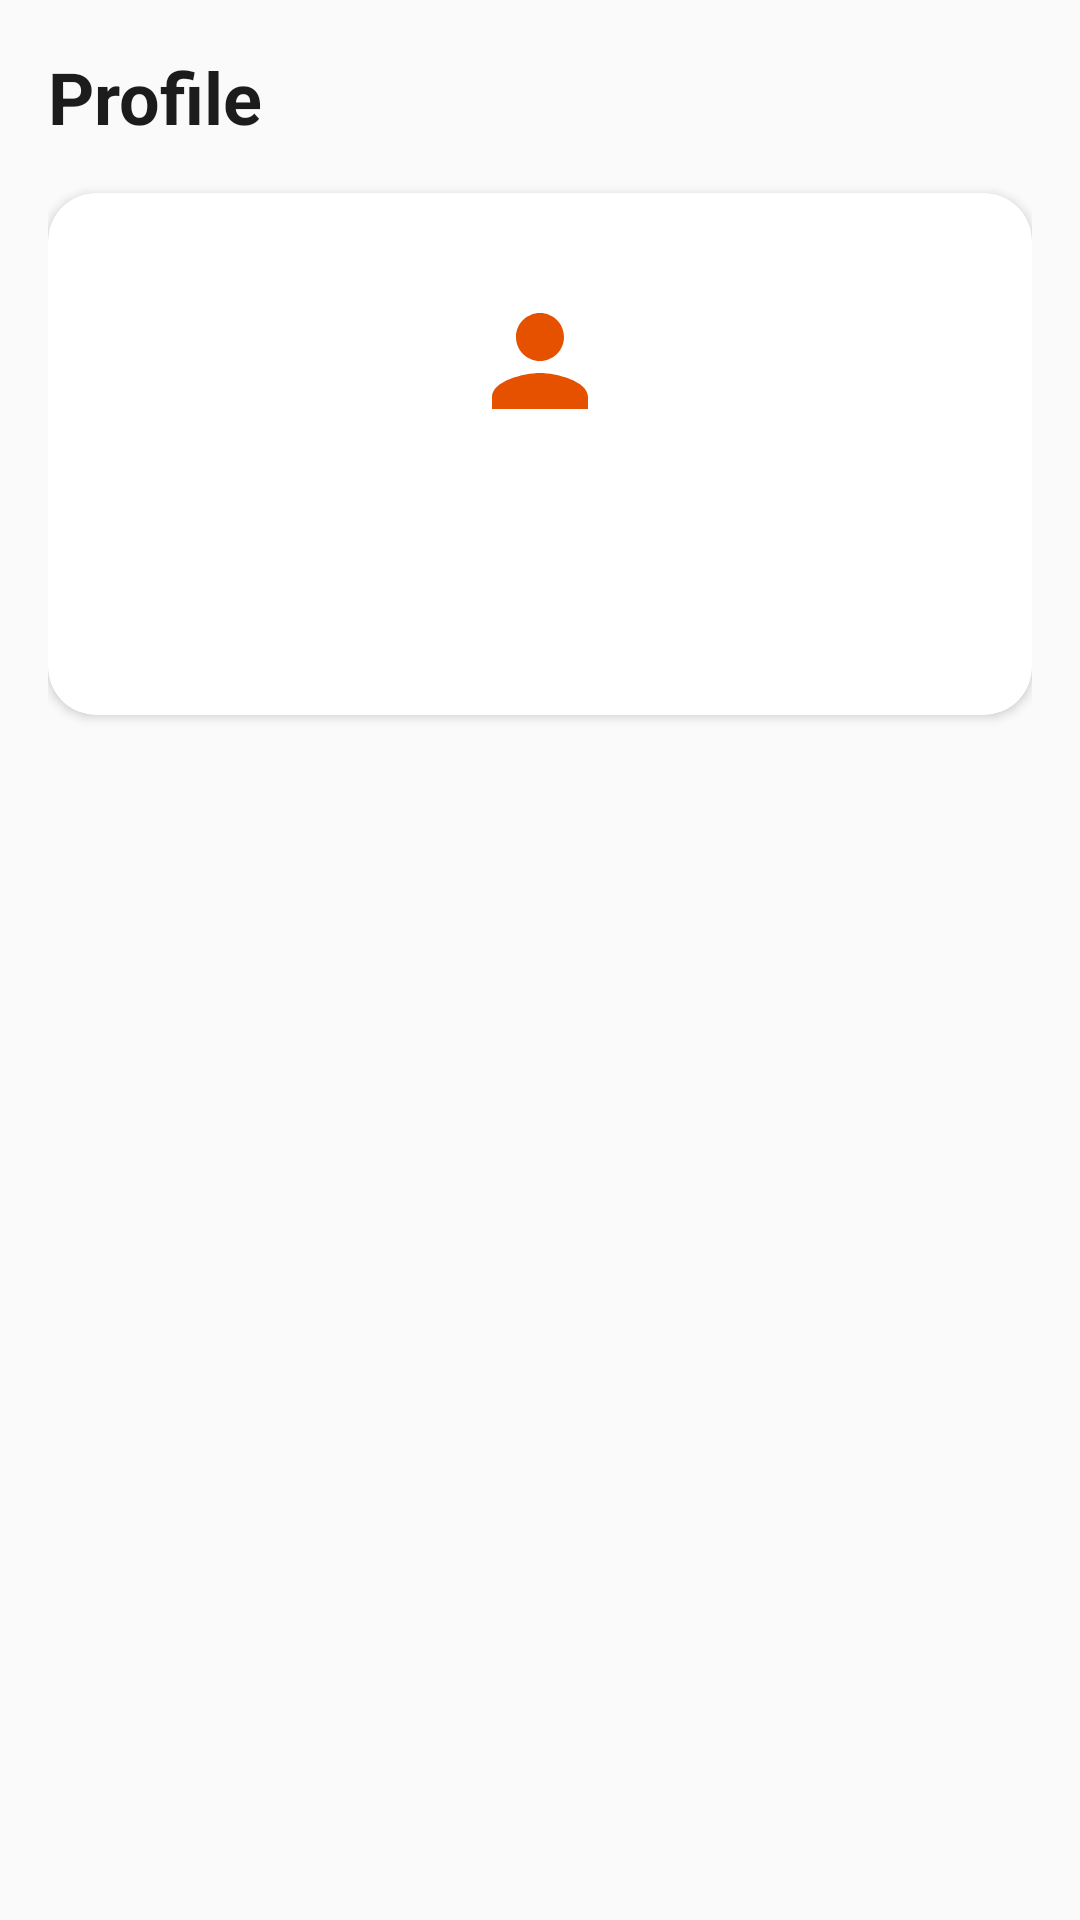

Locate icon controls on the screen. Image size 1080 × 1920, boxes as [x1=x1, y1=y1, x2=x2, y2=y2].
profile: [x1=492, y1=313, x2=588, y2=409]
